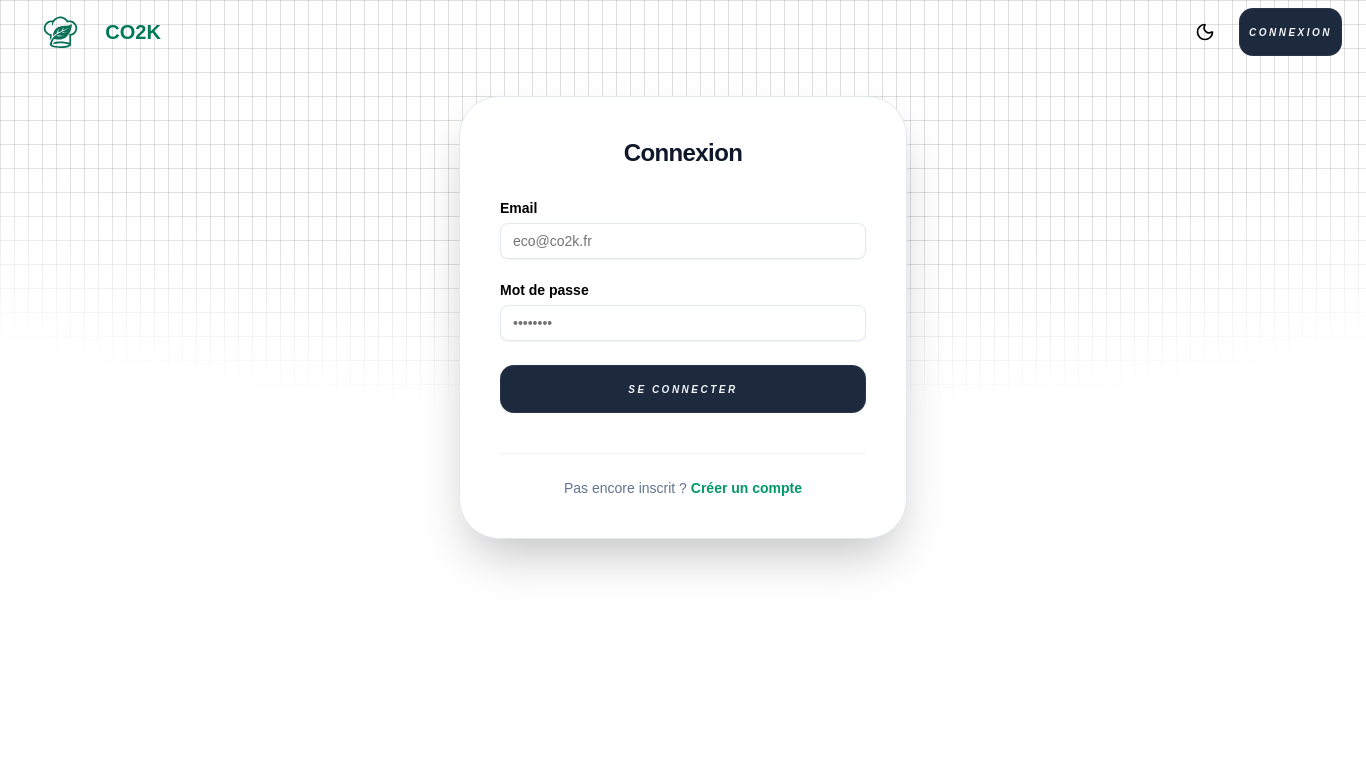
Test case: Test Connexion › Formulaire vide
Click the submit button at [683, 389], box left=500, top=365, right=866, bottom=413
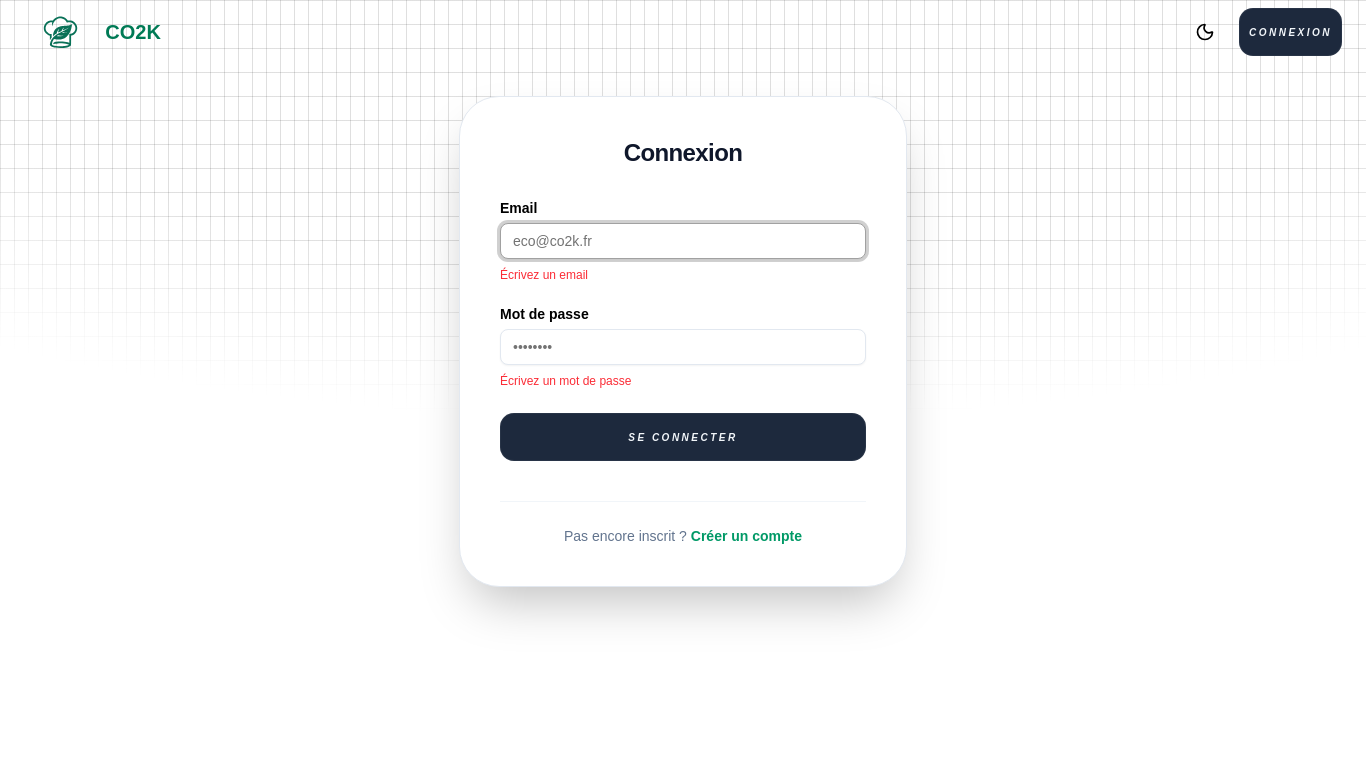
Now the text "Écrivez un email" is shown, box left=500, top=268, right=588, bottom=282
